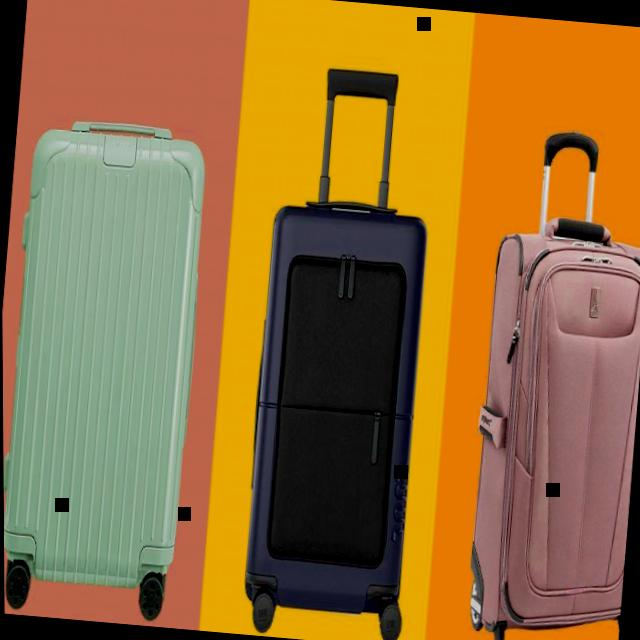luggage: (1, 108, 217, 600), (234, 190, 436, 622), (459, 204, 640, 640)
